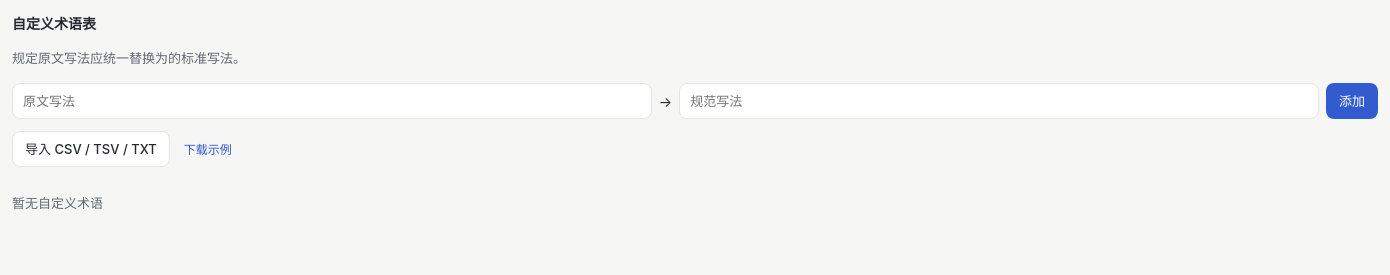
Test: TerminologyEditor › rejects a manual glossary mutation using the actual scenario and switch context
Type "AI" into the field with id "term-original" at (332, 101), box [12,83,652,119]
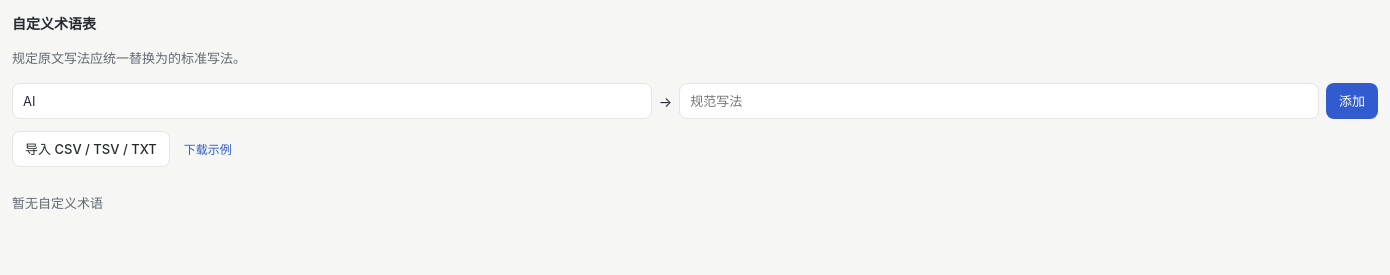
Type "人工智能" into the field with id "term-standard" at (999, 101), box [679,83,1319,119]
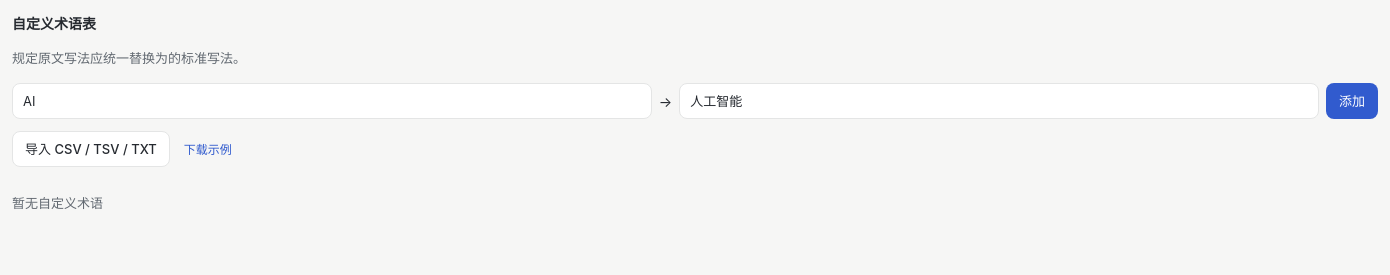
Click the button "添加" at (1352, 101), box [1326,83,1378,119]
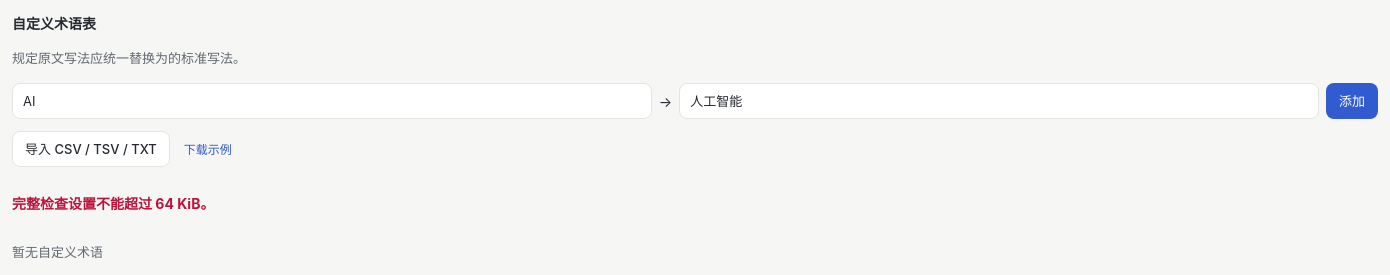
Now the message "完整检查设置不能超过 64 KiB。" is shown, box [12,195,214,212]
